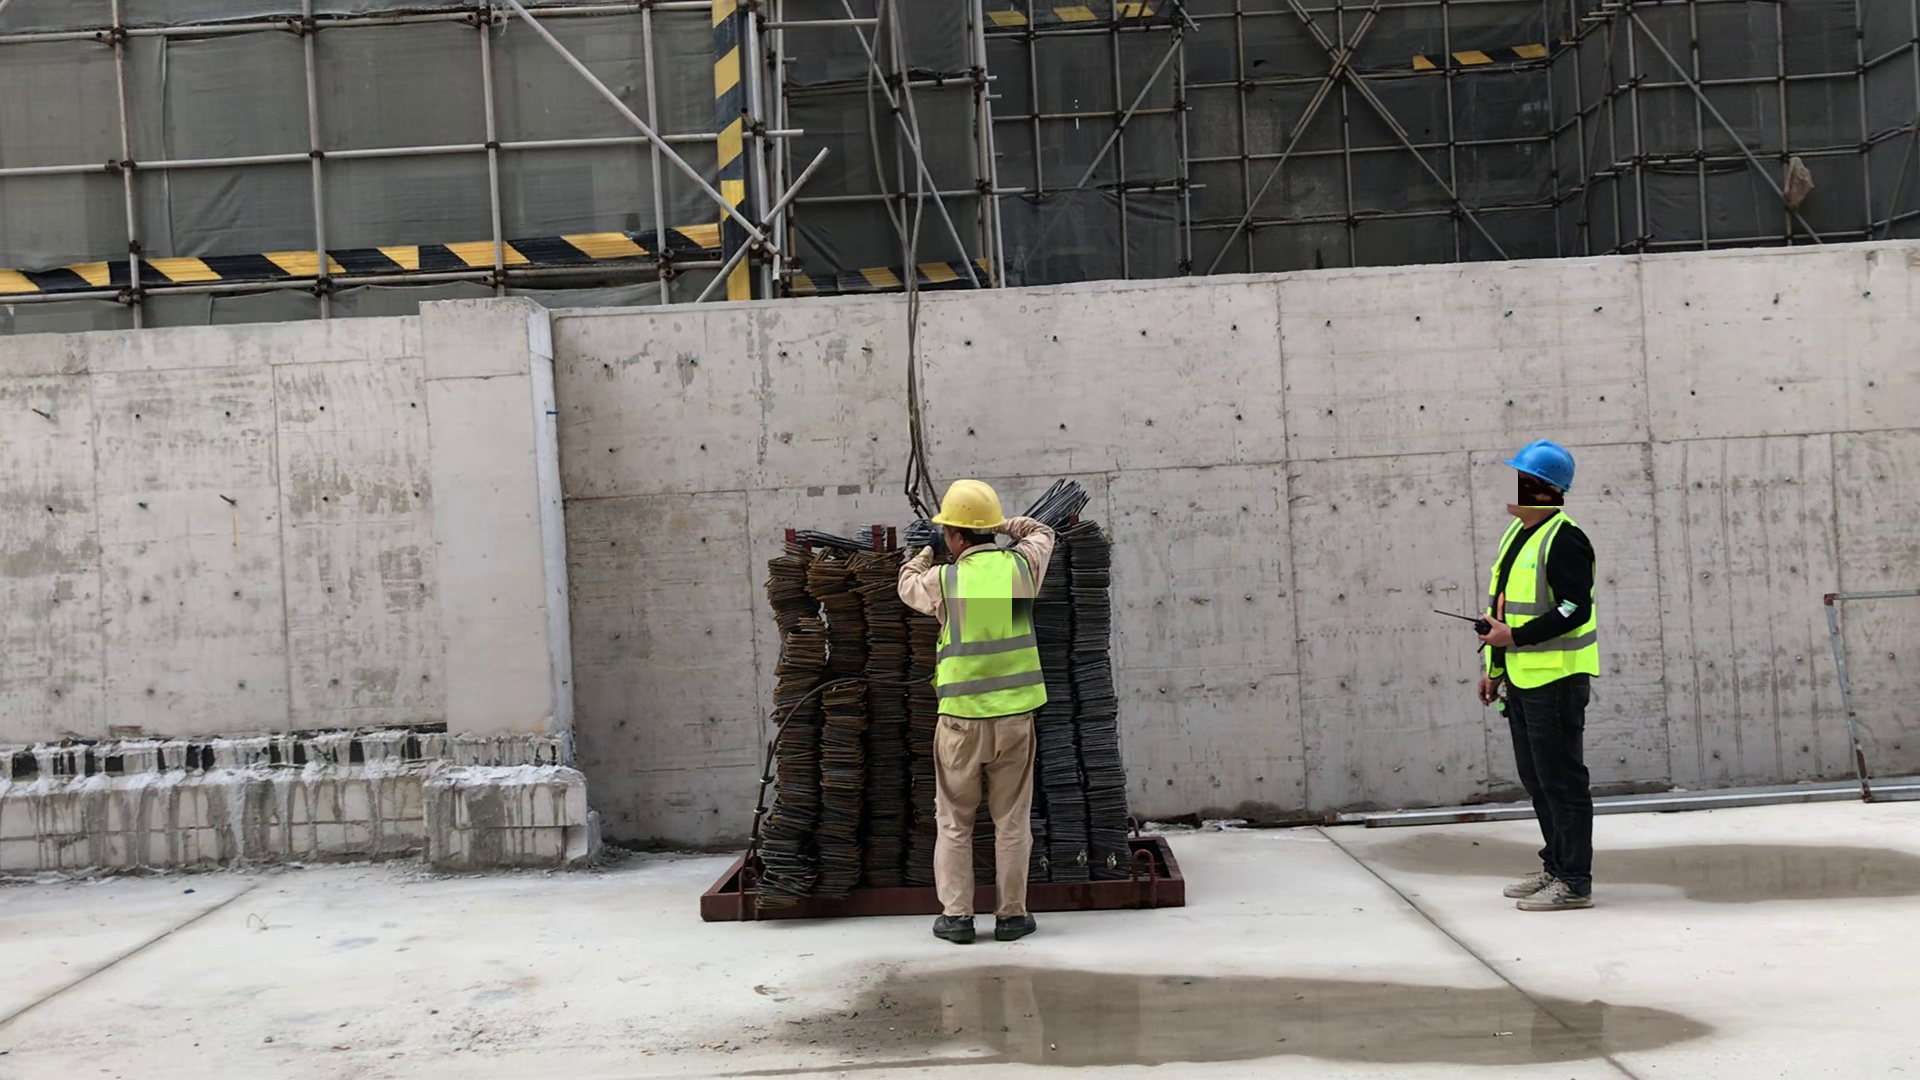helmet: (1505, 431, 1588, 496), (933, 475, 1013, 529)
person: (1456, 428, 1629, 918), (894, 478, 1061, 948)
vest: (902, 564, 1047, 722), (1478, 521, 1606, 681)
